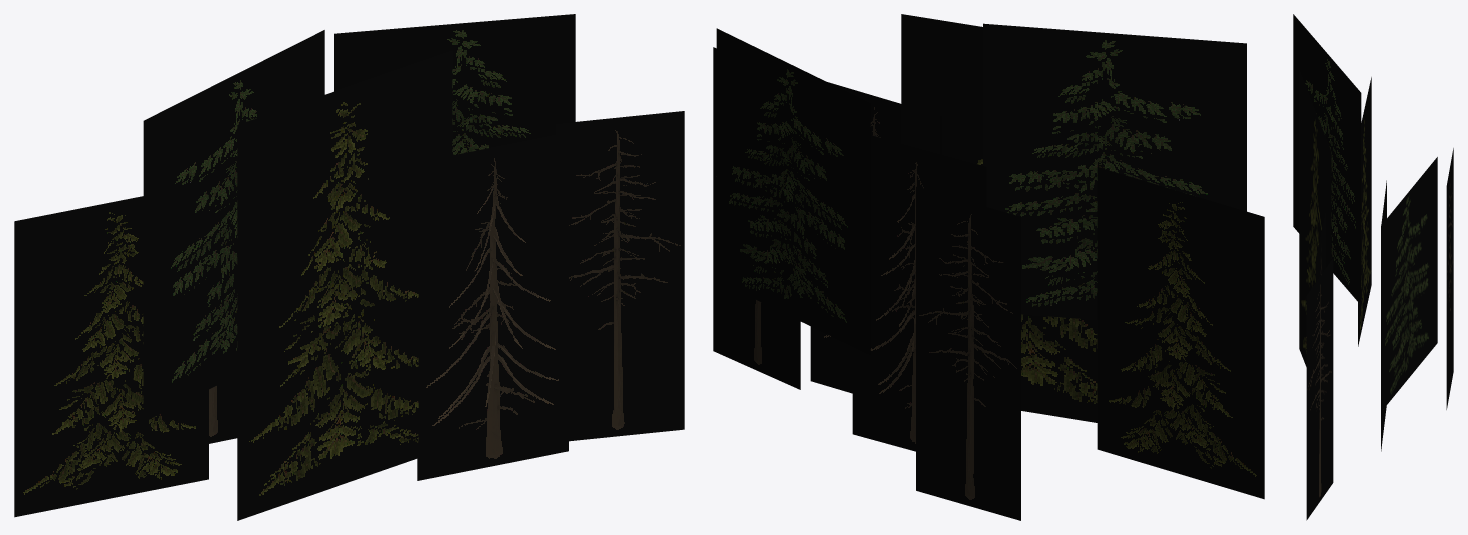
File: bg-alpine-trees.glb
3 renders of one model, left to right at view 1: azimuth 30°, elevation 25°; view 2: azimuth 150°, elevation 25°; view 3: azimuth 270°, elevation 25°, orthographic. The views are drawn at different scales.
Parts seen in each view (by area): view 1: SM_Env_Background_Trees_01; view 2: SM_Env_Background_Trees_01; view 3: SM_Env_Background_Trees_01.
Boxes of the visible parts, x1,y1,x2,y2 form: SM_Env_Background_Trees_01: (14,14,684,520); SM_Env_Background_Trees_01: (713,14,1264,520); SM_Env_Background_Trees_01: (1293,14,1453,520).
Bounding box in the file's own units: 28.83 × 19.87 × 9.07.
Materials: 2 (2 with a texture image).
